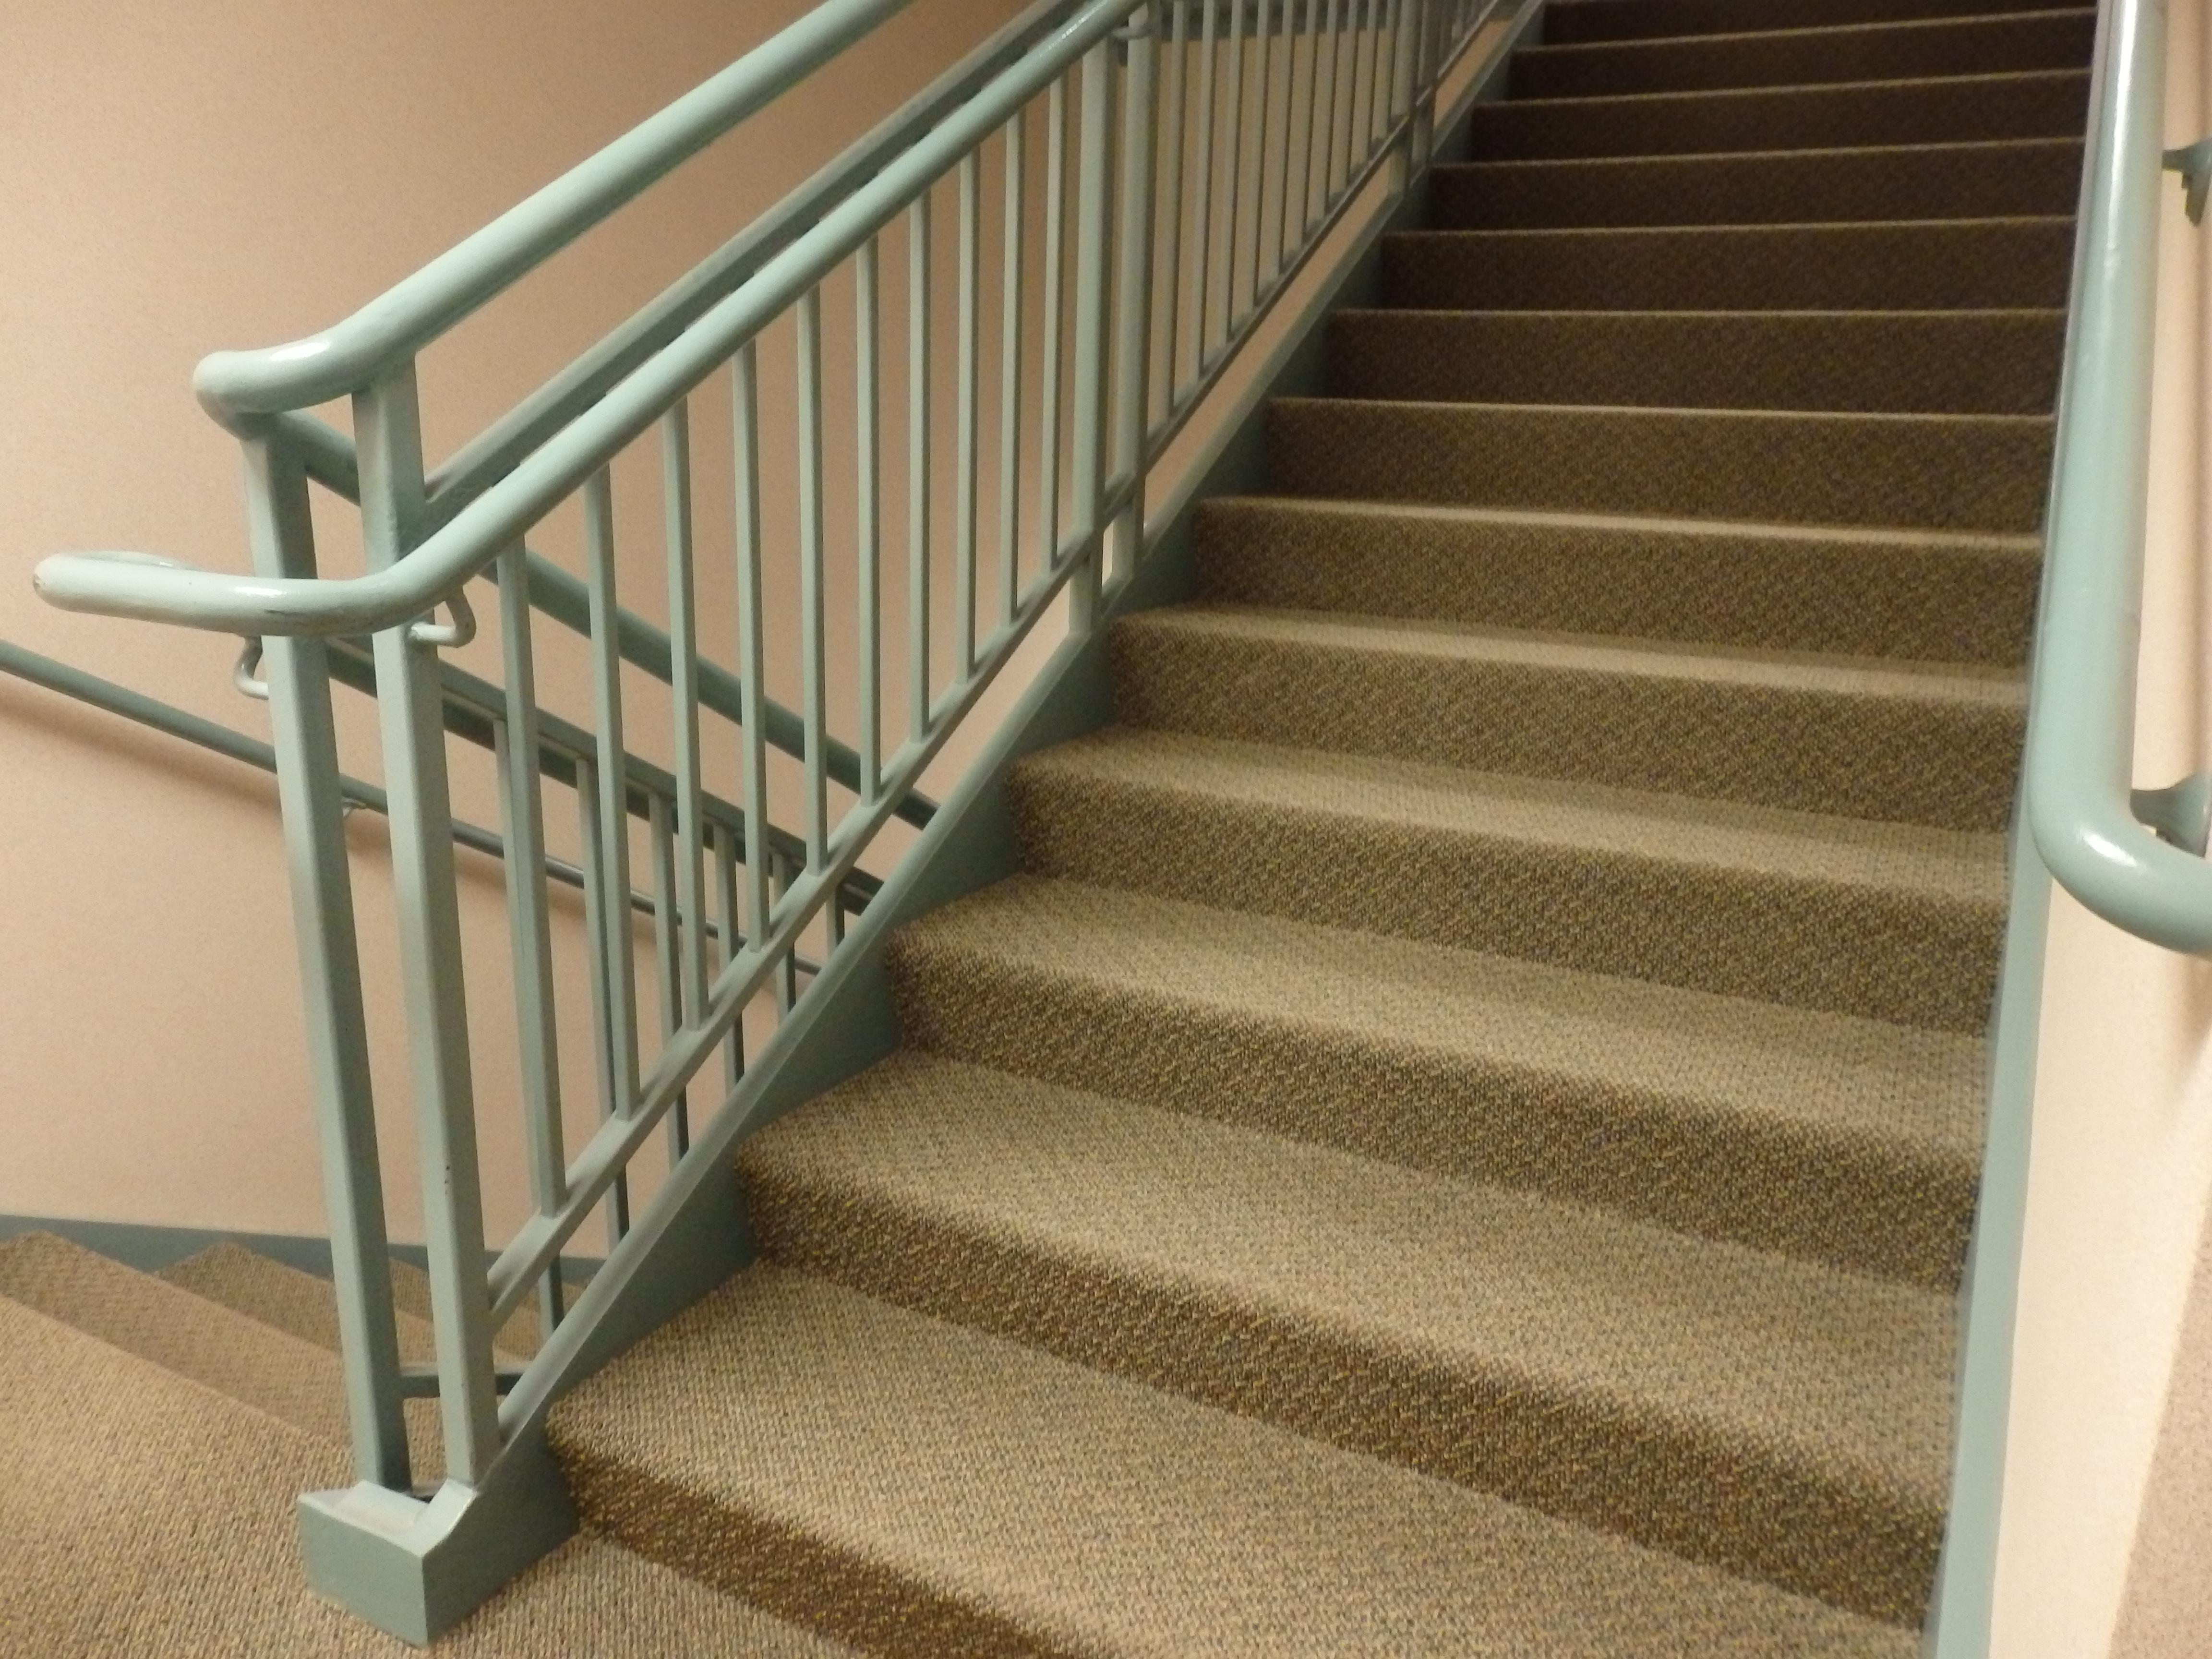stairs_up: (597, 87, 2069, 1652)
